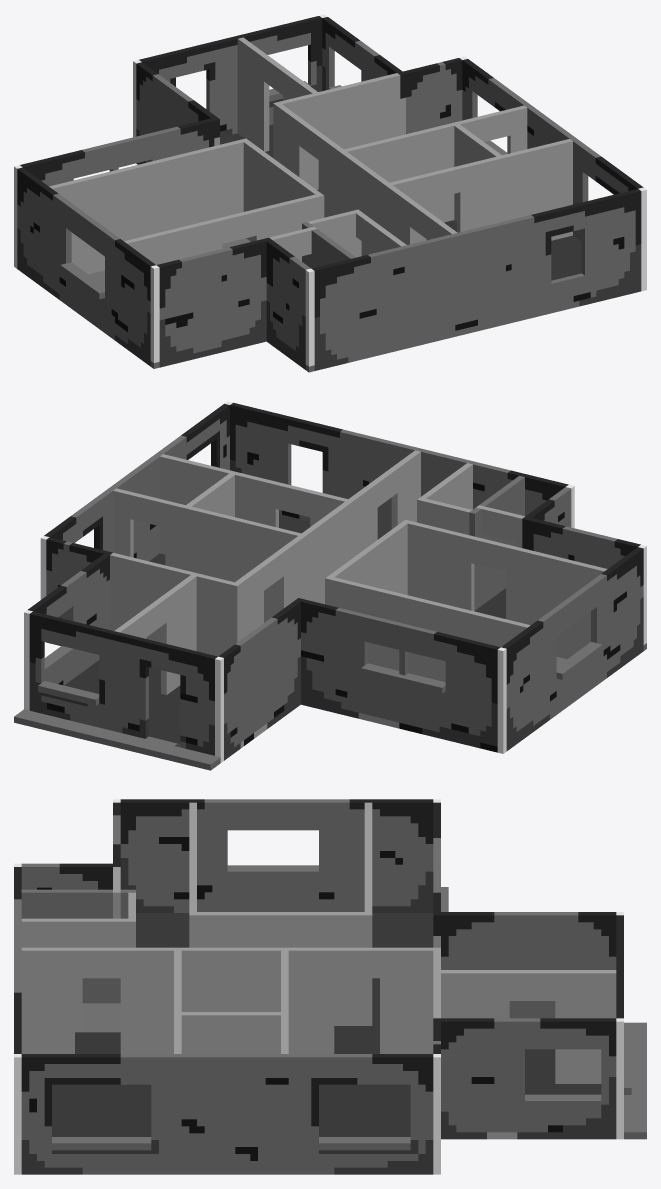
The model's file is Small House v0.5-1-House.obj.
3 renders of one model, top to bottom at view 1: azimuth 30°, elevation 25°; view 2: azimuth 150°, elevation 25°; view 3: azimuth 270°, elevation 25°, orthographic. The views are drawn at different scales.
Parts seen in each view (by area): view 1: House; view 2: House; view 3: House.
Boxes of the visible parts, x1,y1,x2,y2 form: House: (14, 14, 646, 372); House: (14, 401, 646, 770); House: (14, 799, 646, 1174).
Bounding box in the file's own units: 8.2 × 1.7 × 8.3.
Materials: 1 (1 with a texture image).
